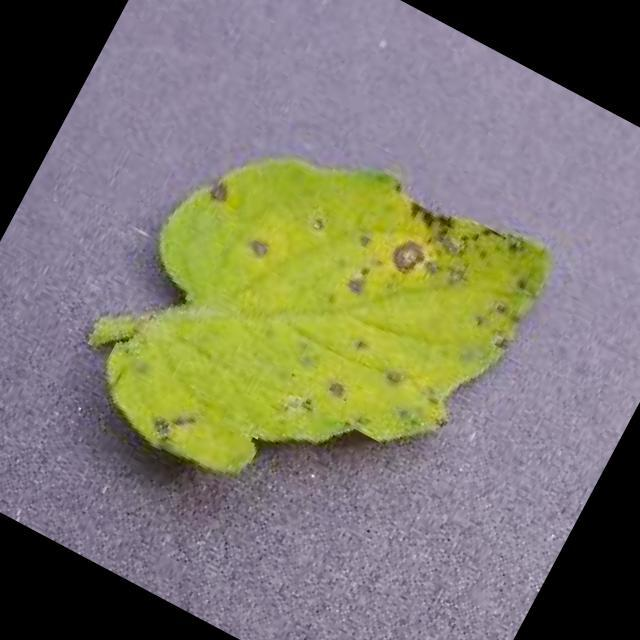Tomato Septoria spot leaf: (70, 79, 564, 576)
